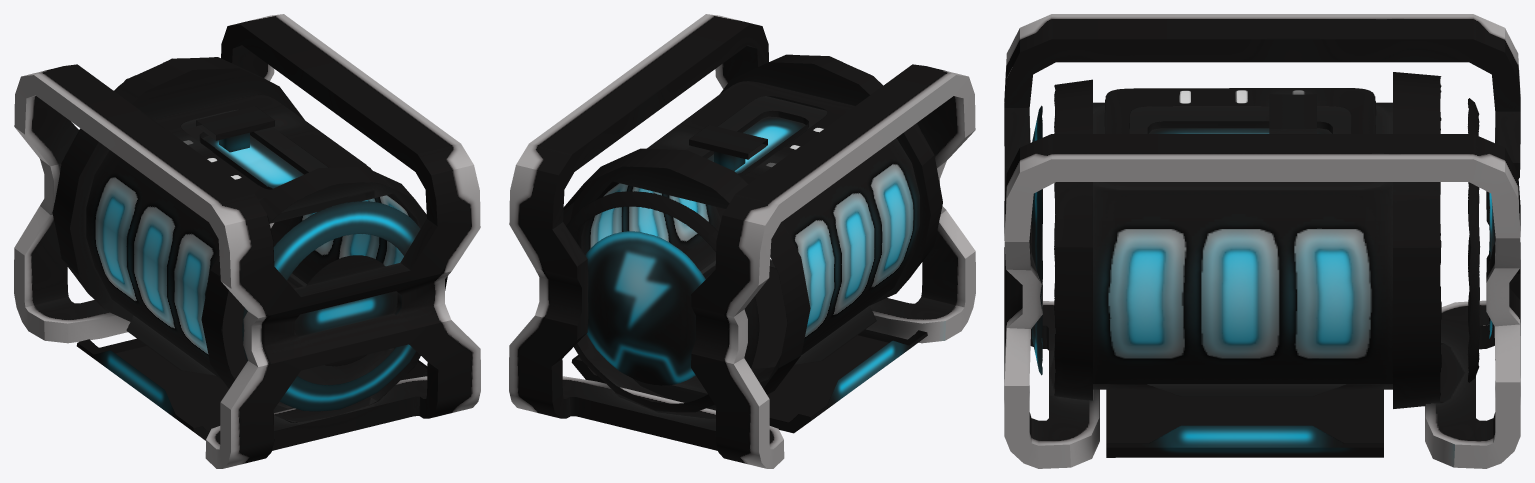
The model's file is obj_interactive_electricengine_05_off.fbx.
3 renders of one model, left to right at view 1: azimuth 30°, elevation 25°; view 2: azimuth 150°, elevation 25°; view 3: azimuth 270°, elevation 25°, orthographic. The views are drawn at different scales.
Parts seen in each view (by area): view 1: obj_interactive_electricengine_05_off; view 2: obj_interactive_electricengine_05_off; view 3: obj_interactive_electricengine_05_off.
Part boxes in pixels (<box>): obj_interactive_electricengine_05_off: <box>14,14,480,468</box>; obj_interactive_electricengine_05_off: <box>509,14,975,468</box>; obj_interactive_electricengine_05_off: <box>1004,14,1520,468</box>.
Bounding box in the file's own units: 2 × 2.06 × 3.
